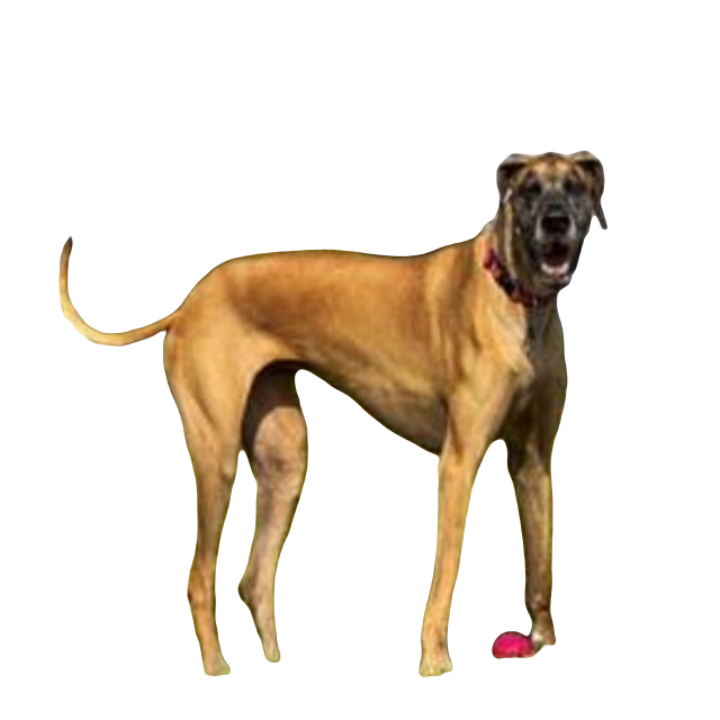Dog: (52, 150, 604, 674)
